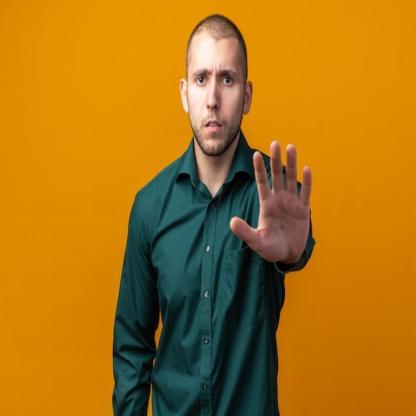stop: (228, 138, 315, 268)
